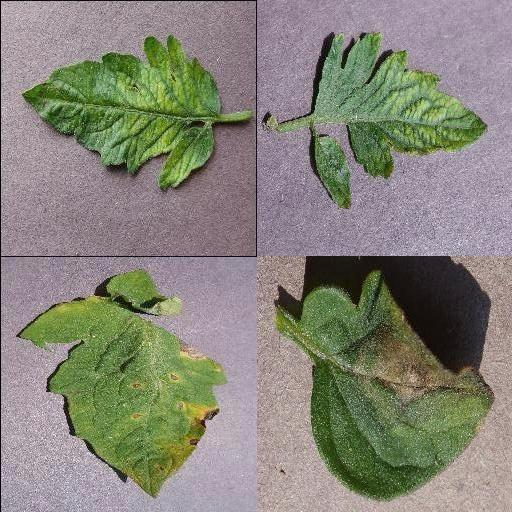Late Blight: (299, 269, 499, 501)
Mosaic Virus: (19, 34, 219, 194), (309, 30, 489, 182)
Septoria: (18, 300, 228, 500)
